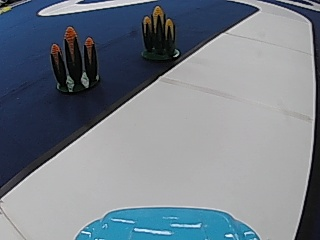corn: (49, 26, 101, 93), (138, 3, 180, 60)
